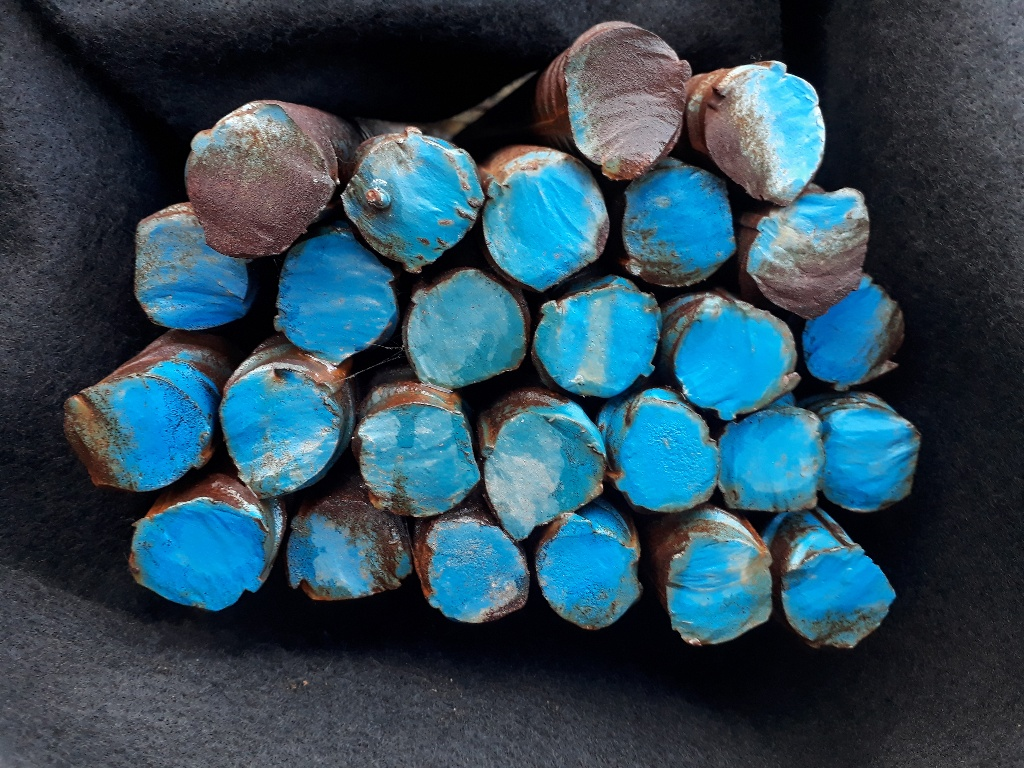dipstick: (180, 105, 331, 255), (346, 134, 486, 270), (566, 22, 687, 177), (707, 62, 829, 206), (65, 373, 210, 493), (276, 230, 402, 368), (745, 186, 872, 322), (484, 160, 611, 290), (672, 292, 801, 419), (483, 410, 608, 541), (217, 364, 337, 499), (134, 199, 253, 331), (130, 499, 267, 613), (405, 266, 528, 391), (355, 400, 482, 520), (779, 526, 898, 652), (618, 164, 737, 288), (533, 282, 656, 395), (288, 499, 414, 603), (535, 516, 646, 632), (802, 273, 907, 392), (664, 534, 772, 649), (613, 399, 719, 514), (821, 396, 921, 516), (717, 406, 825, 512), (426, 518, 530, 624)
